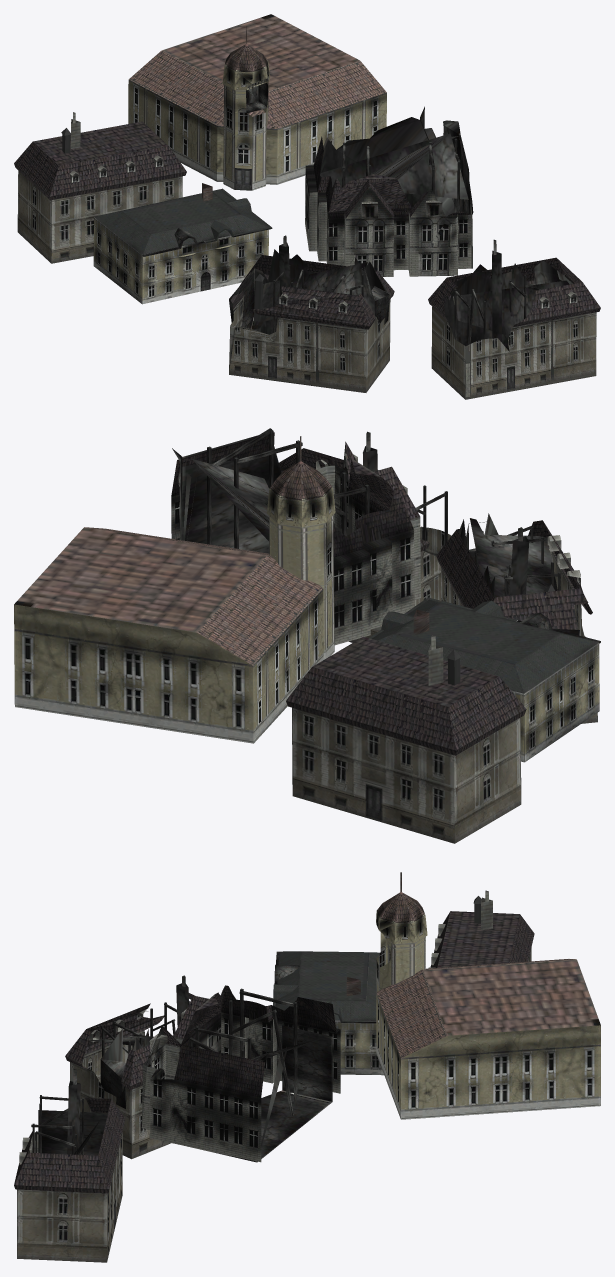
File: Ruin_CityBlock_04.fbx
3 renders of one model, top to bottom at view 1: azimuth 30°, elevation 25°; view 2: azimuth 150°, elevation 25°; view 3: azimuth 270°, elevation 25°, orthographic. The views are drawn at different scales.
Visible parts, largest first — view 1: Ruin_CityBlock_04_Part0_destroyed_cityblock01d; view 2: Ruin_CityBlock_04_Part0_destroyed_cityblock01d; view 3: Ruin_CityBlock_04_Part0_destroyed_cityblock01d.
Part boxes in pixels (bbox=[...]): Ruin_CityBlock_04_Part0_destroyed_cityblock01d: bbox=[14, 14, 600, 399]; Ruin_CityBlock_04_Part0_destroyed_cityblock01d: bbox=[14, 428, 600, 843]; Ruin_CityBlock_04_Part0_destroyed_cityblock01d: bbox=[14, 872, 600, 1262].
Size of the model in its own units: 3.24 by 2.25 by 4.08.
